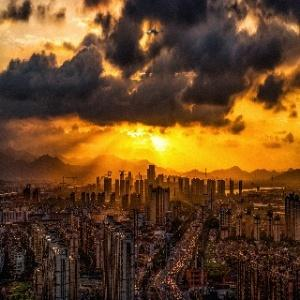drone: (137, 14, 173, 50)
